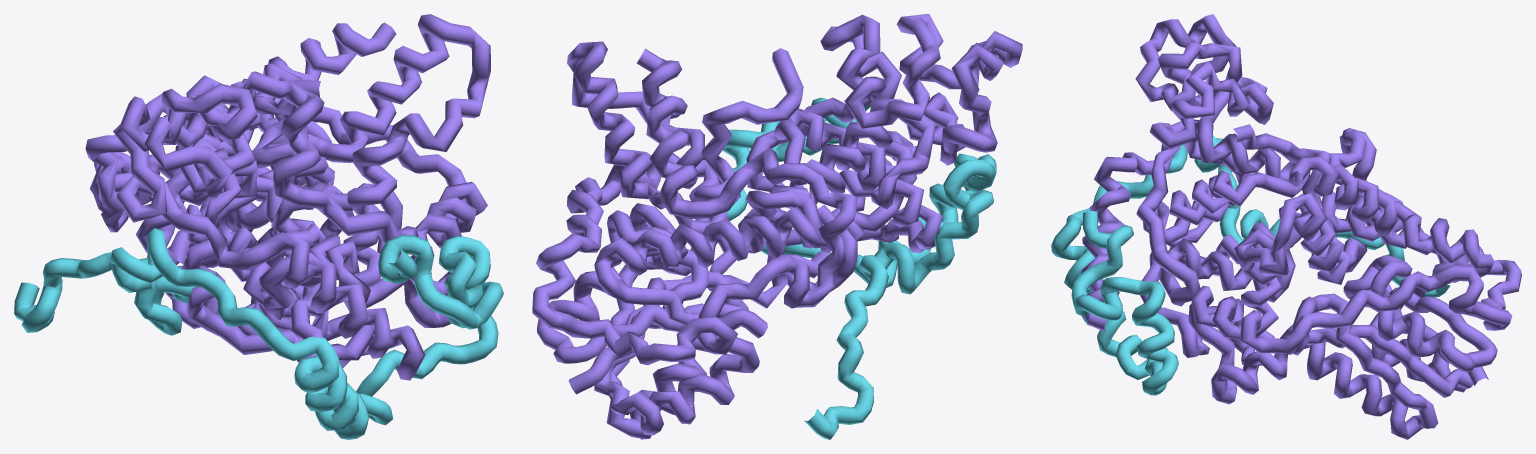
File: per-cry-6of7.glb
The picture shows the model from 3 angles, left to right: view 1: azimuth 30°, elevation 25°; view 2: azimuth 150°, elevation 25°; view 3: azimuth 270°, elevation 25°; orthographic projection. The views are drawn at different scales.
Visible parts, largest first — view 1: chain-A (×3), chain-B; view 2: chain-A (×3), chain-B; view 3: chain-A (×3), chain-B.
Boxes of the visible parts, <box> form: chain-A (×3): <box>85,14,490,380</box>; chain-B: <box>14,228,503,439</box>; chain-A (×3): <box>532,14,1022,439</box>; chain-B: <box>710,97,996,439</box>; chain-A (×3): <box>1081,14,1521,439</box>; chain-B: <box>1051,135,1450,395</box>.
Bounding box in the file's own units: 2.23 × 2.02 × 2.62.
